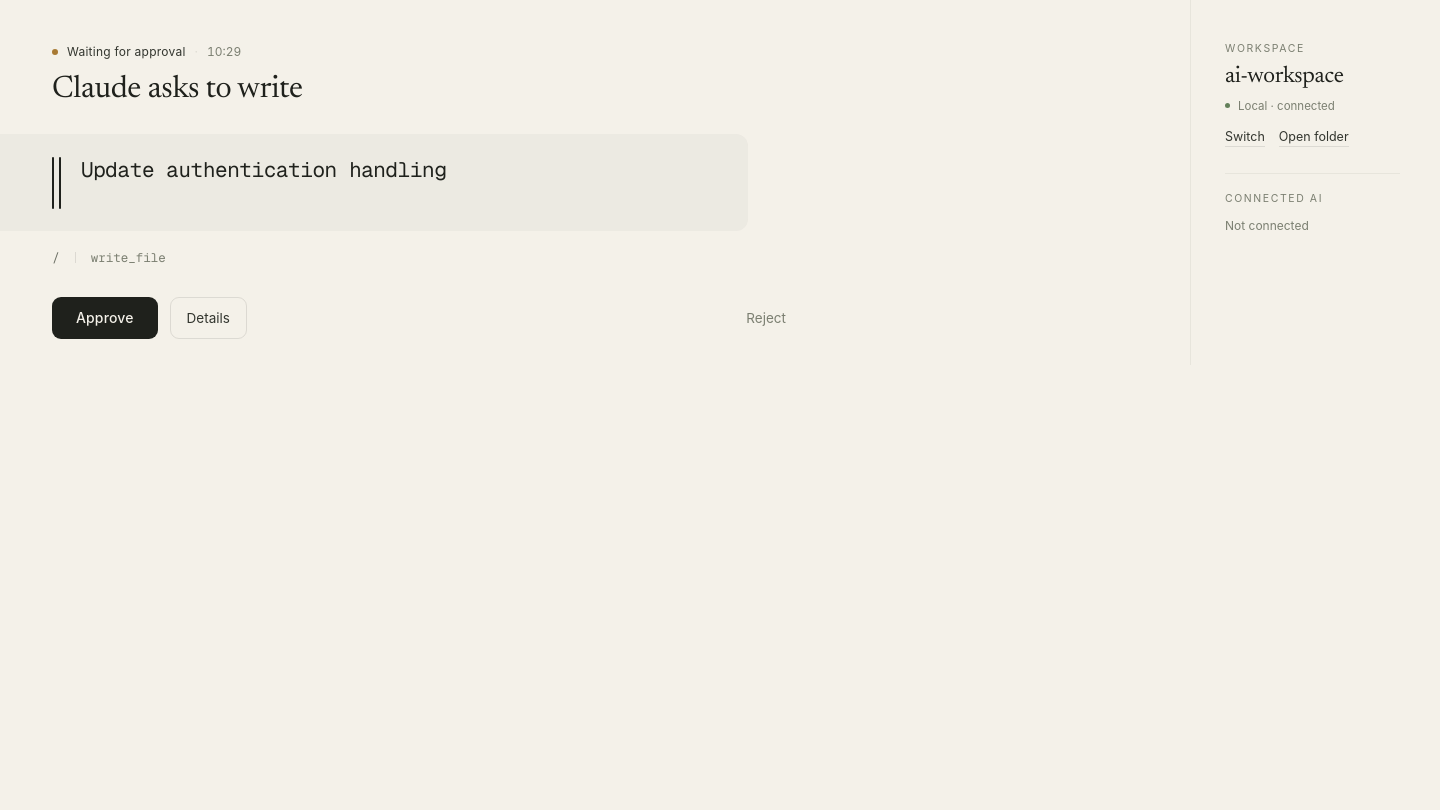
what a change row has to say beyond its path › says both when both are true, and does not merge them into one
Click the button "Details" at (208, 318), box [170, 297, 247, 339]
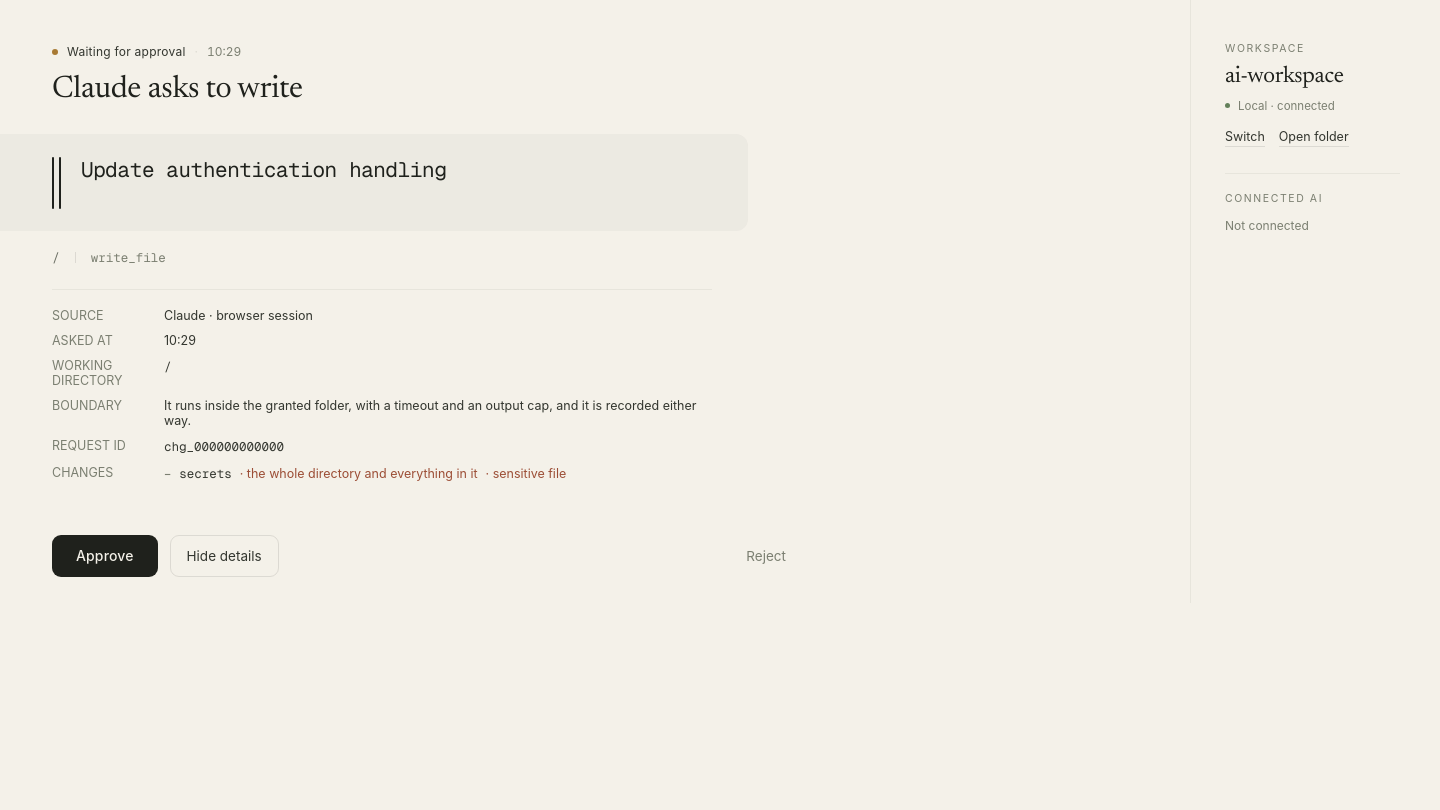
Now the text "the whole directory and everything in it" is shown, box [247, 466, 478, 481]
Now the text "sensitive file" is shown, box [493, 466, 566, 481]
